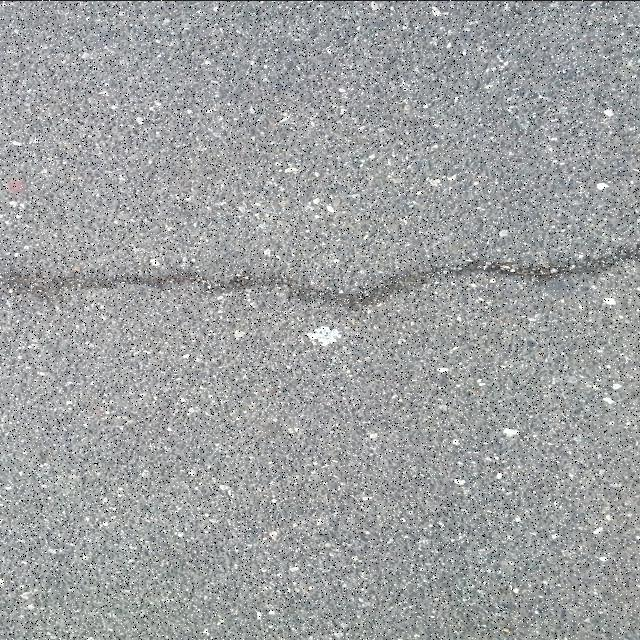Crack: (0, 242, 640, 307)
